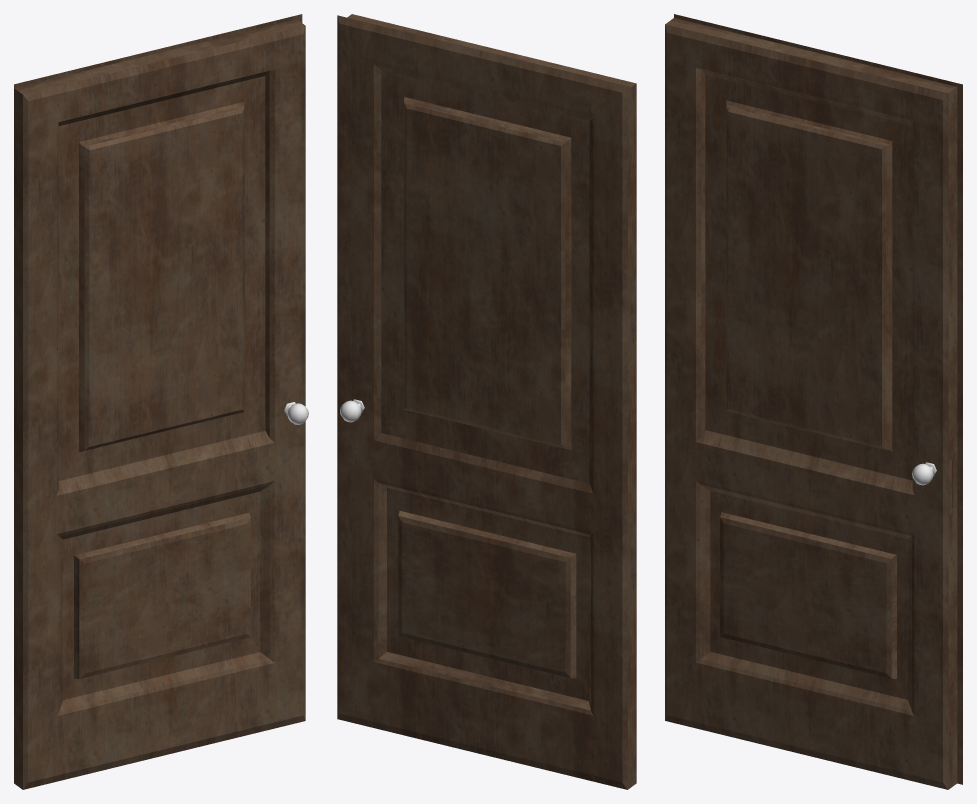
The model's file is drzwi.fbx.
3 renders of one model, left to right at view 1: azimuth 30°, elevation 25°; view 2: azimuth 150°, elevation 25°; view 3: azimuth 330°, elevation 25°, orthographic.
Visible parts, largest first — view 1: Cube; view 2: Cube; view 3: Cube.
Part boxes in pixels (x1=…): Cube: x1=14, y1=14, x2=305, y2=789; Cube: x1=337, y1=14, x2=636, y2=789; Cube: x1=665, y1=14, x2=962, y2=789.
Size of the model in its own units: 143 by 331 by 31.58.
